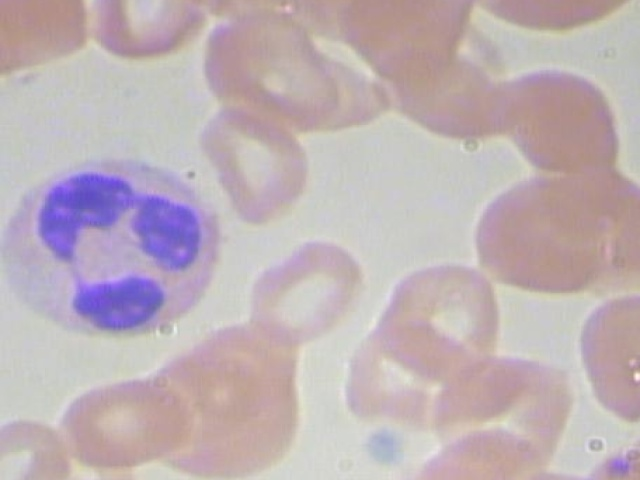Platelets: (358, 420, 415, 470)
RBC: (466, 175, 626, 297), (428, 350, 580, 469), (495, 62, 631, 184), (195, 98, 321, 226), (53, 362, 190, 471), (240, 233, 370, 344), (340, 321, 469, 428), (380, 258, 502, 368), (375, 46, 504, 148), (574, 290, 640, 424), (80, 0, 210, 60), (462, 0, 640, 40), (0, 407, 76, 480), (0, 0, 29, 87)
WBC: (0, 157, 239, 338)
